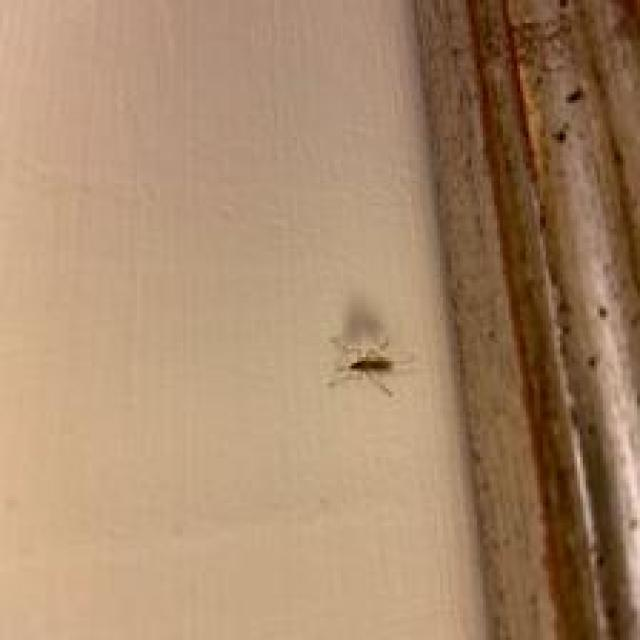Culex: (324, 332, 413, 397)
